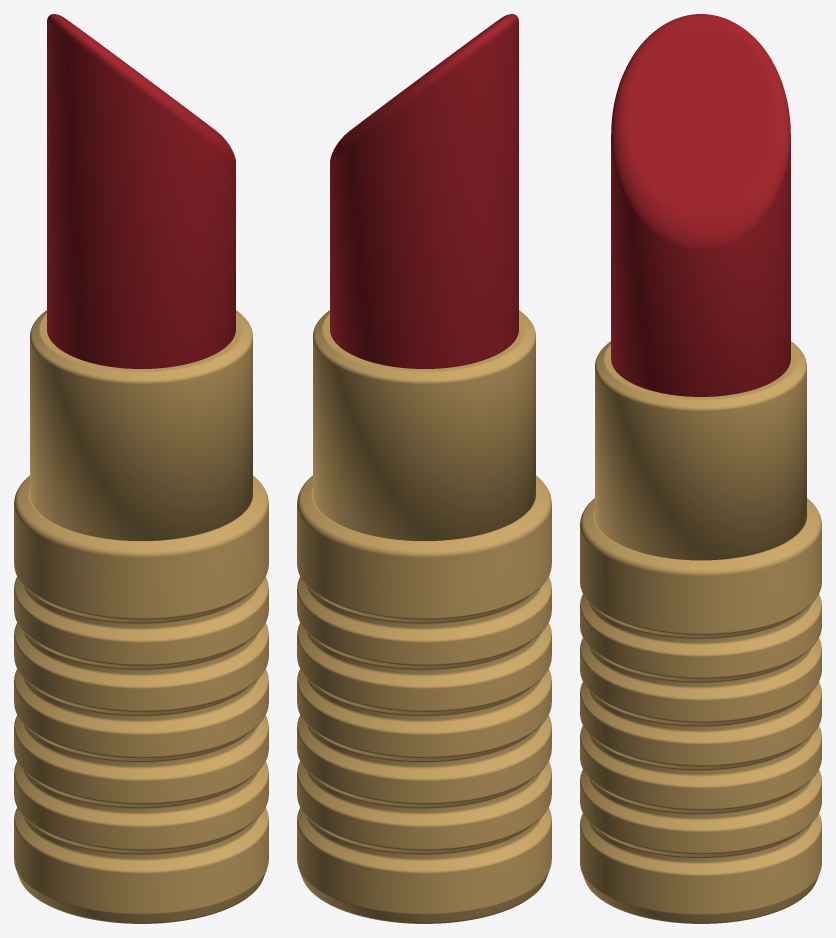
File: lipstick.glb
3 renders of one model, left to right at view 1: azimuth 30°, elevation 25°; view 2: azimuth 150°, elevation 25°; view 3: azimuth 270°, elevation 25°, orthographic. The views are drawn at different scales.
Parts seen in each view (by area): view 1: tube, bullet, sleeve; view 2: tube, bullet, sleeve; view 3: tube, bullet, sleeve.
Part boxes in pixels (box(x1,y1,x2,y2)): tube: box(14, 475, 268, 923); bullet: box(47, 14, 235, 368); sleeve: box(30, 310, 252, 540); tube: box(297, 475, 551, 923); bullet: box(330, 14, 518, 368); sleeve: box(313, 310, 535, 540); tube: box(580, 498, 821, 923); bullet: box(611, 14, 790, 396); sleeve: box(595, 341, 806, 560).
Bounding box in the file's own units: 0.21 × 0.7909 × 0.21.
